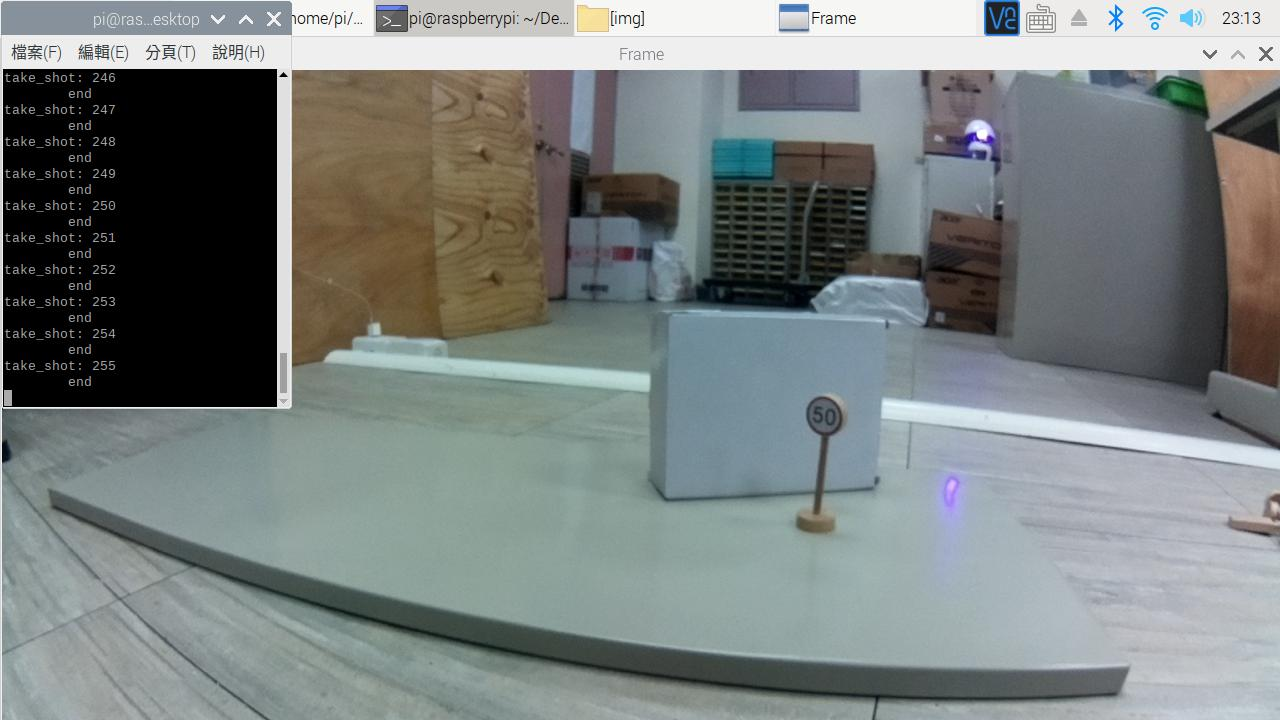Speed50: (798, 390, 852, 447)
